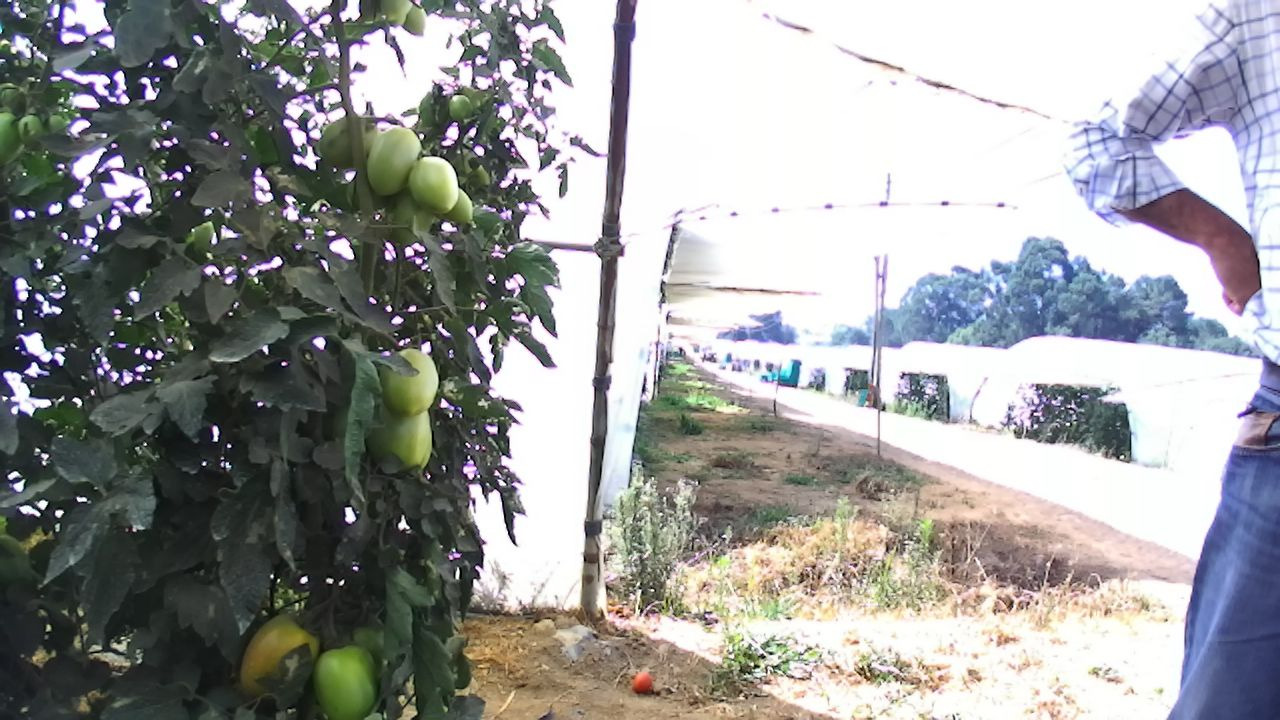tomato: (235, 603, 331, 709), (356, 378, 444, 482), (306, 642, 383, 720), (360, 123, 426, 202), (377, 344, 441, 421), (404, 151, 462, 221)
